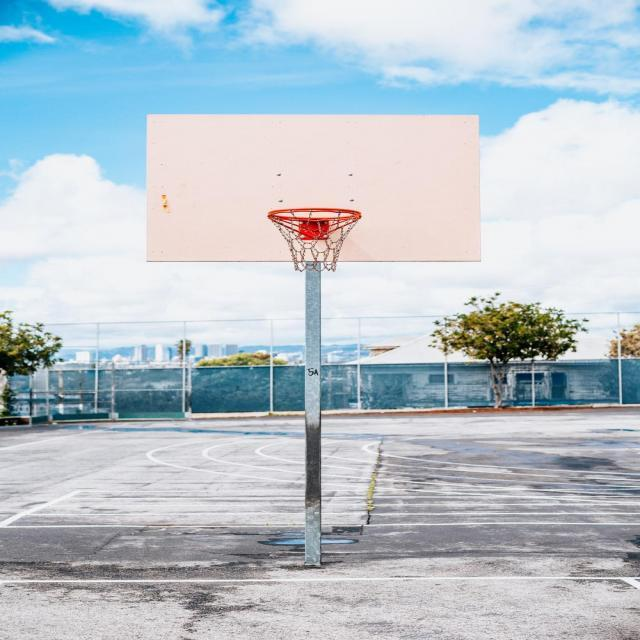hoop: (268, 207, 362, 272)
